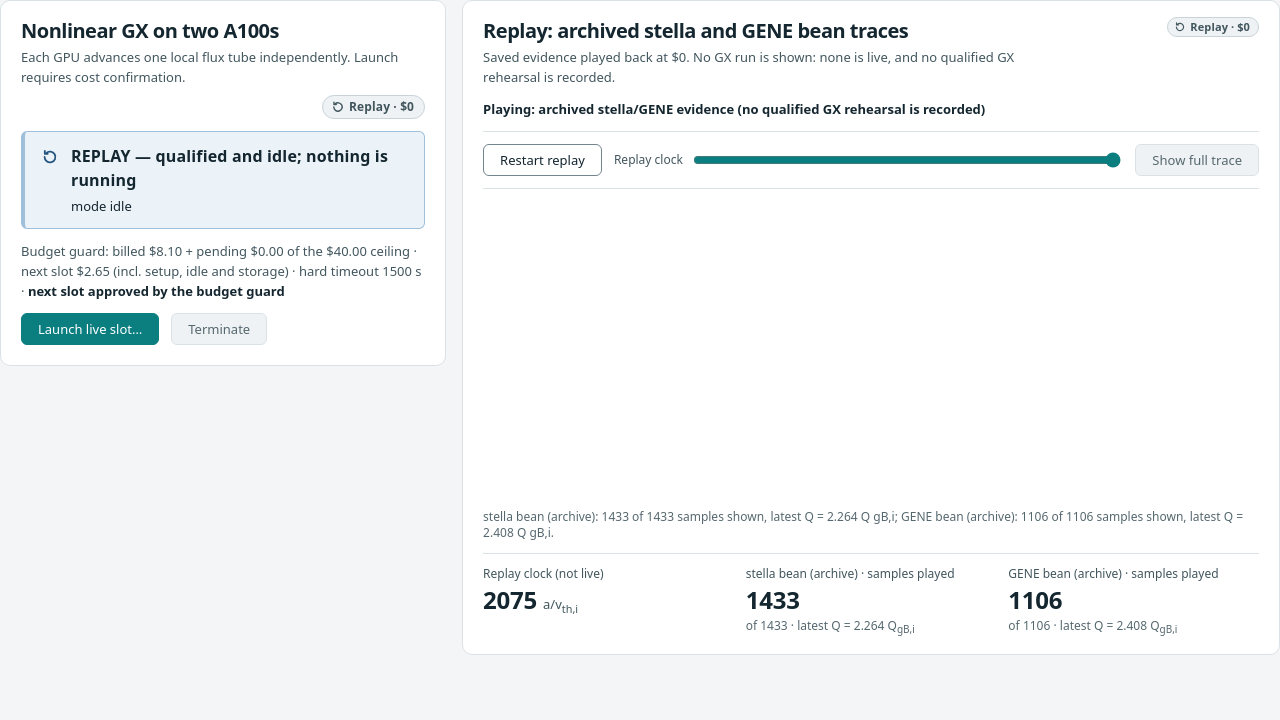
Test: L10 FA-4 after a 409 the refusal is shown and Launch comes back with the snapshot the refusal carries, when it allows launching
Click the button "Launch live slot…": (90, 329) top-left (21, 313), bottom-right (159, 345)
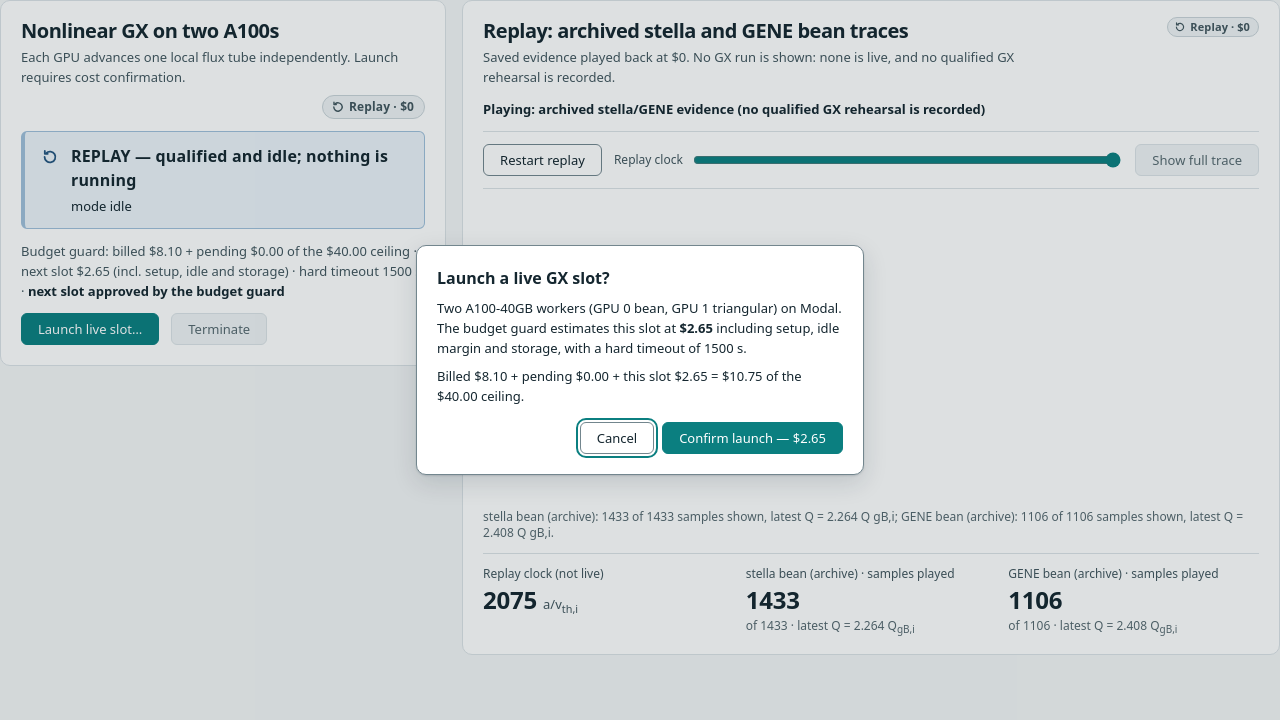
Click the button "Confirm launch — $2.65": (753, 438) top-left (662, 422), bottom-right (843, 454)
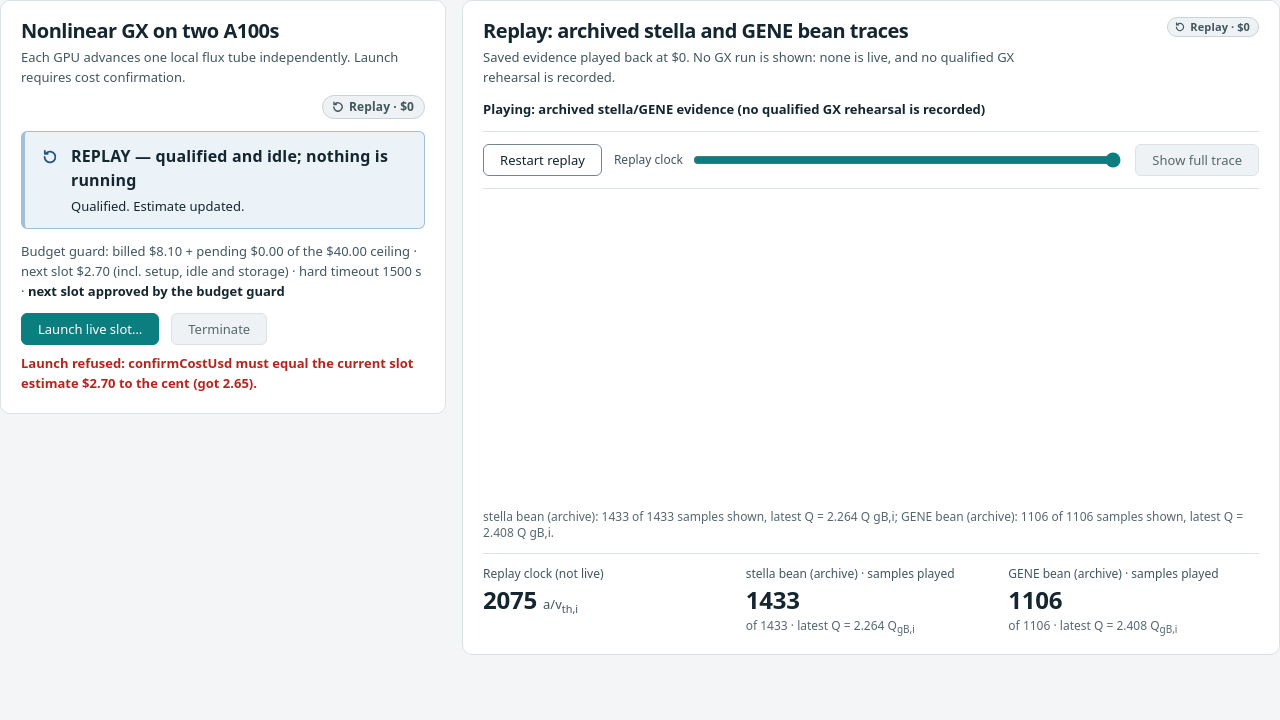
Expected: the text "Launch refused:" shows "Launch refused: confirmCostUsd must equal the current slot estimate $2.70 to the cent (got 2.65).", top-left (21, 353), bottom-right (425, 393)
Expected: the element with test id "budget-line" shows "next slot $2.70", top-left (21, 241), bottom-right (425, 301)
Expected: the element with test id "mode-banner" shows "Estimate updated.", top-left (71, 197), bottom-right (244, 215)
Click the button "Launch live slot…": (90, 329) top-left (21, 313), bottom-right (159, 345)
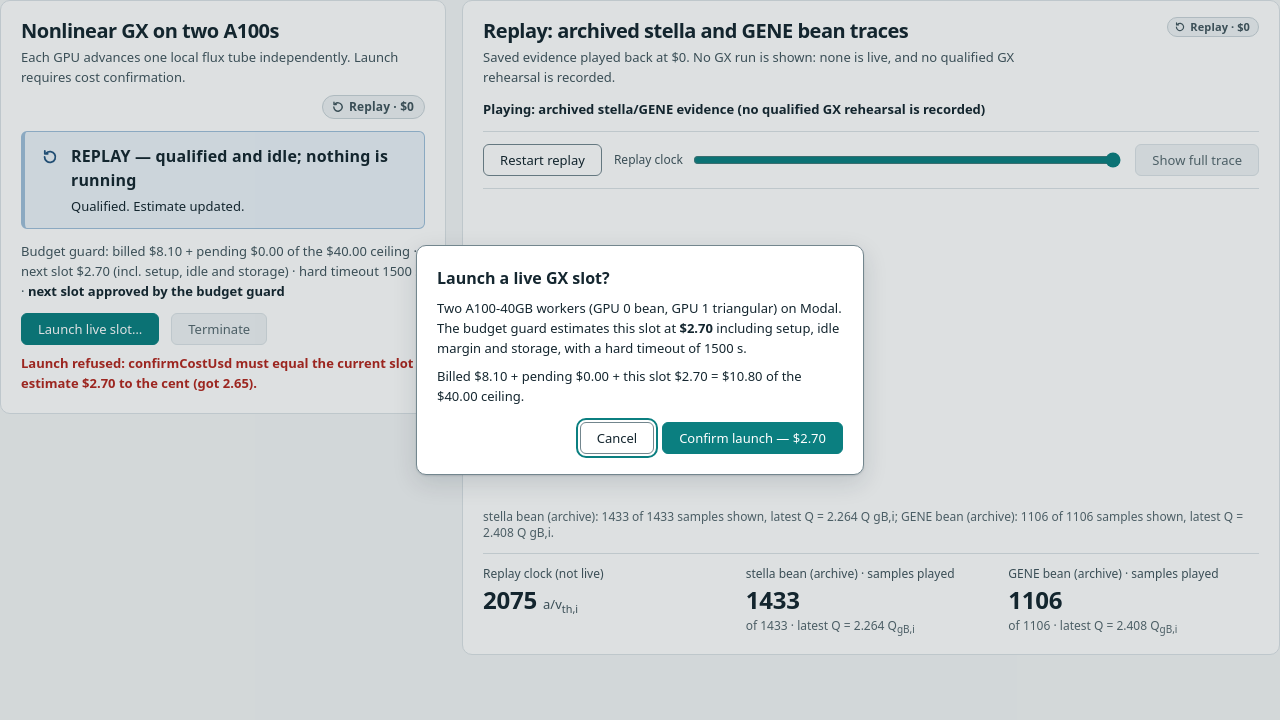
Expected: the text with test id "confirm-cost" reads "$2.70", top-left (680, 319), bottom-right (713, 337)
